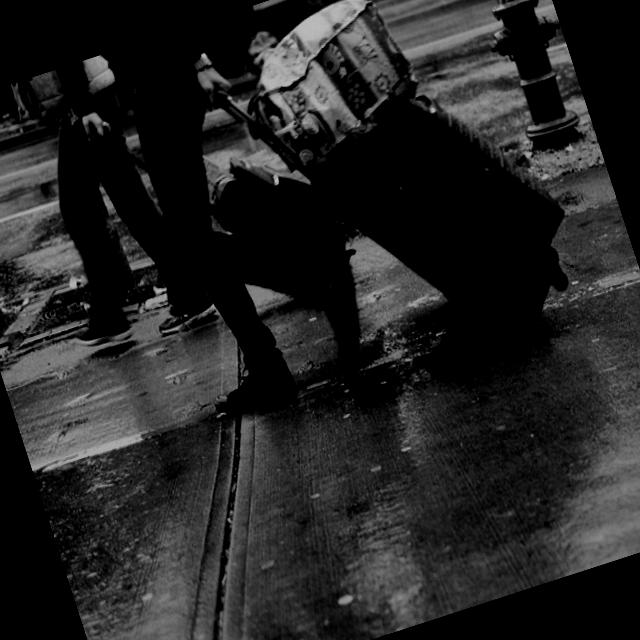Vehicle: (250, 0, 339, 45)
